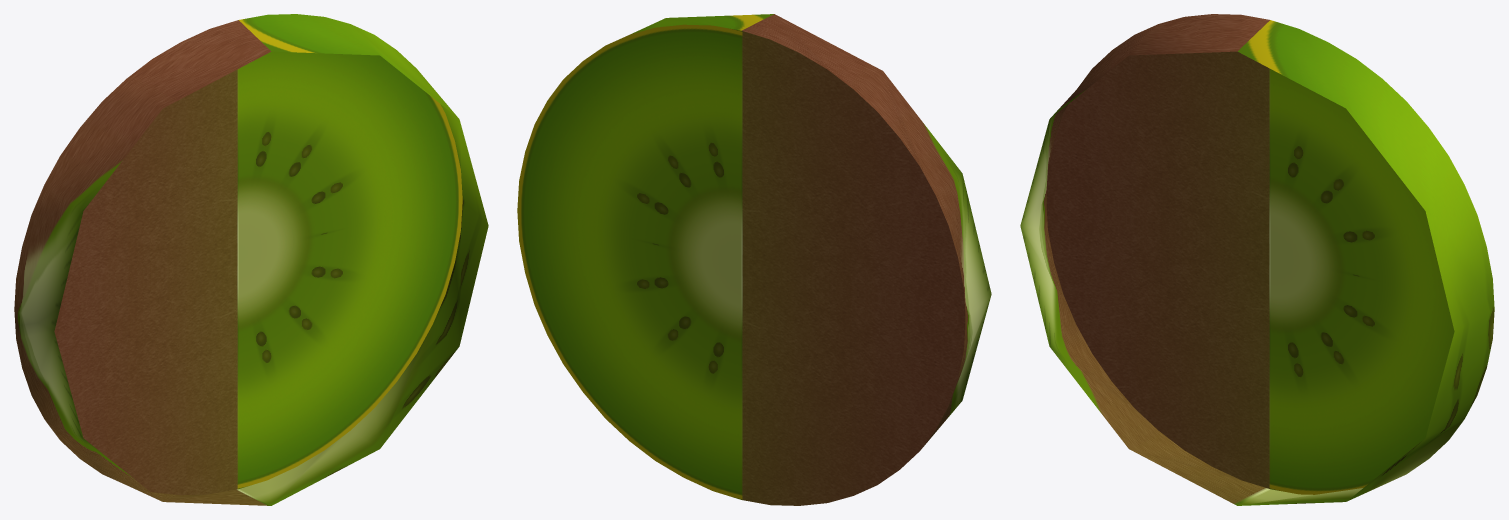
The model's file is Kiwi_Wheel.fbx.
3 views of the same model, side by side, from view 1: azimuth 30°, elevation 25°; view 2: azimuth 150°, elevation 25°; view 3: azimuth 330°, elevation 25° (orthographic).
Parts seen in each view (by area): view 1: Kiwi_Wheel; view 2: Kiwi_Wheel; view 3: Kiwi_Wheel.
Part boxes in pixels (box(x1,y1,x2,y2)): Kiwi_Wheel: box(14, 14, 488, 505); Kiwi_Wheel: box(517, 14, 991, 505); Kiwi_Wheel: box(1020, 14, 1494, 505).
Size of the model in its own units: 300 by 300 by 38.23.
